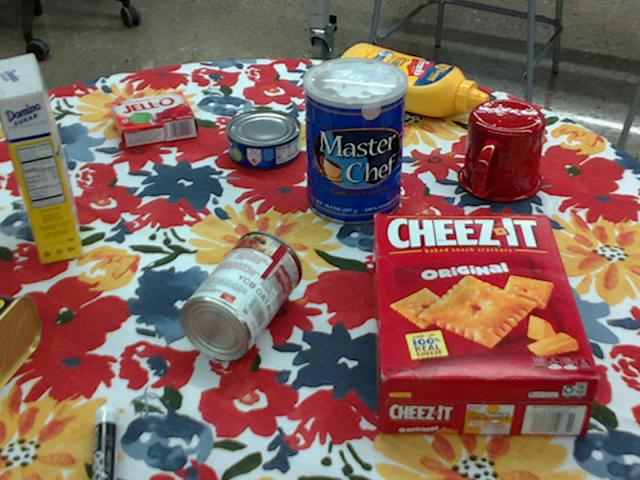cracker_box: (372, 214, 598, 435)
gelatin_box: (110, 94, 196, 150)
large_marker: (88, 404, 117, 479)
master_chef_can: (304, 57, 409, 226)
mug: (457, 100, 546, 203)
mustard_bottle: (333, 43, 488, 117)
potted_meat_can: (0, 293, 40, 385)
sugar_box: (0, 51, 82, 263)
tomato_soup_can: (179, 231, 301, 361)
tuna_fish_can: (225, 110, 300, 169)
